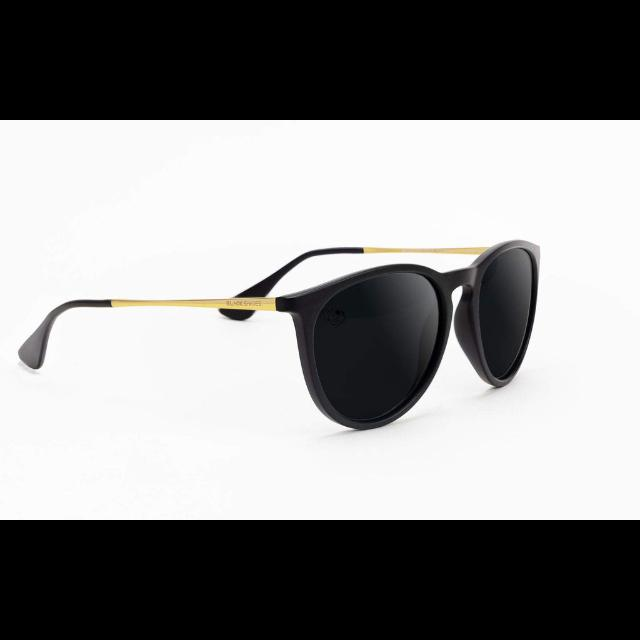Sunglasses: (16, 235, 556, 435)
